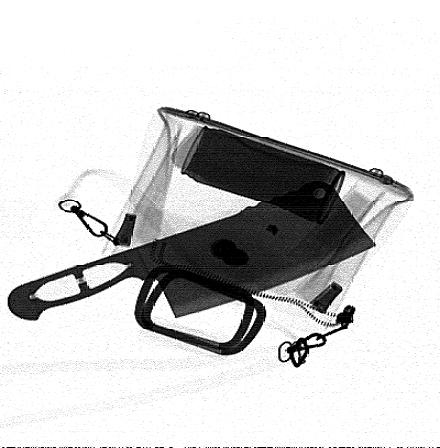Knife: (6, 179, 379, 322)
